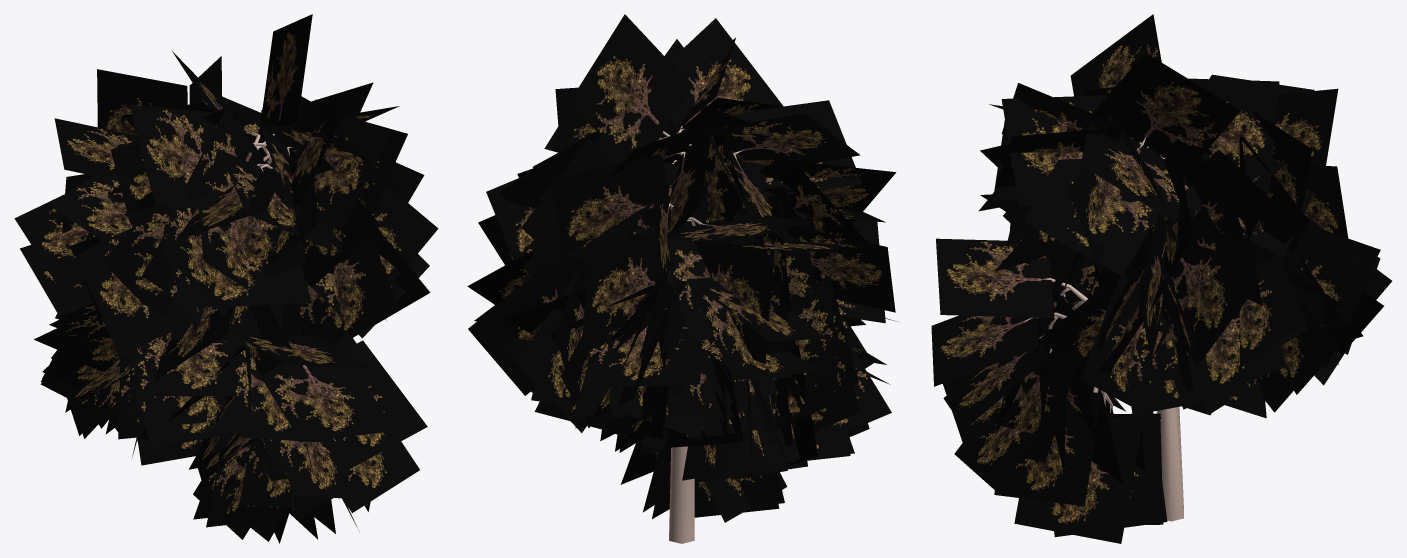
File: arbre3.glb
The picture shows the model from 3 angles, left to right: view 1: azimuth 30°, elevation 25°; view 2: azimuth 150°, elevation 25°; view 3: azimuth 270°, elevation 25°; orthographic projection. The views are drawn at different scales.
Size of the model in its own units: 5.53 by 7.09 by 5.94.
2 materials, 1 textured.
